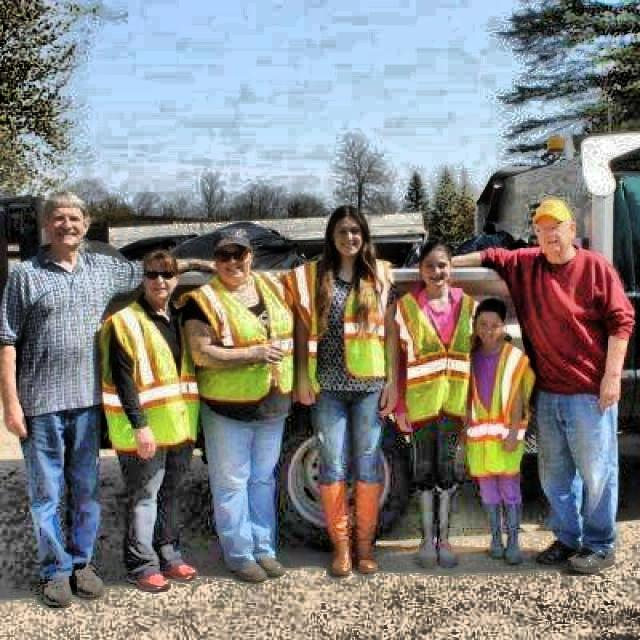safety_jacket: (108, 302, 206, 448), (206, 268, 296, 404), (406, 291, 472, 421), (470, 338, 530, 476), (336, 272, 392, 389)
